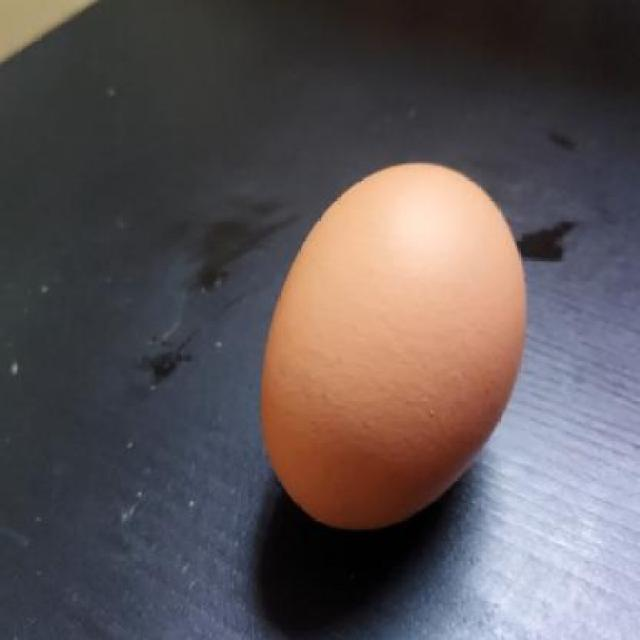biodegradable: (258, 162, 528, 528)
